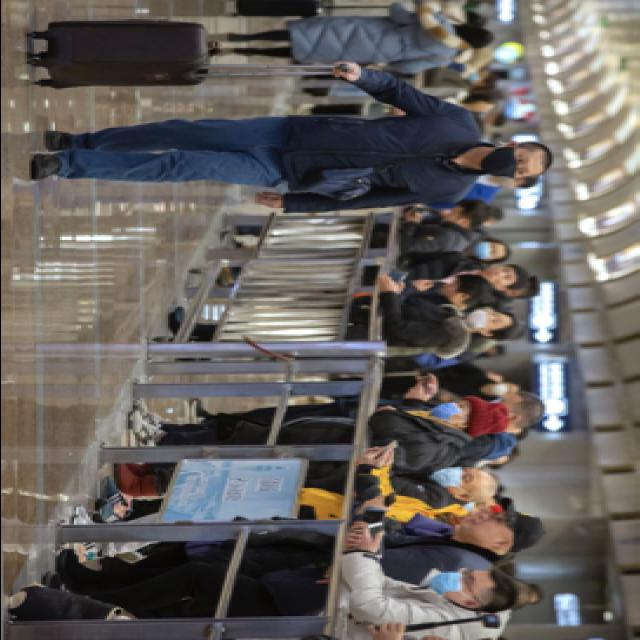mask_weared_incorrect: (468, 308, 508, 329)
with_mask: (430, 566, 484, 598), (484, 146, 534, 178), (433, 466, 480, 488), (433, 400, 473, 421), (473, 240, 503, 259), (492, 381, 518, 395)
without_mask: (461, 512, 511, 542), (484, 264, 518, 285), (440, 278, 464, 300), (442, 206, 463, 224)
